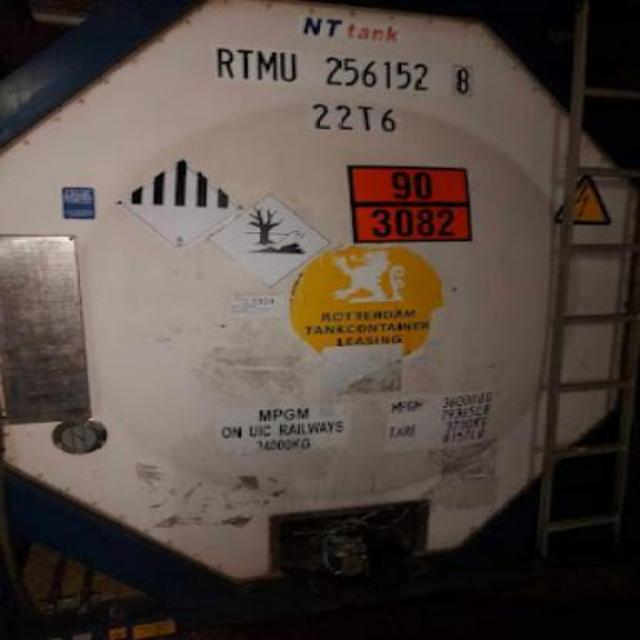1: (382, 51, 396, 94)
2: (322, 50, 342, 90), (412, 54, 430, 94)
5: (340, 49, 360, 89), (396, 52, 412, 94)
6: (358, 49, 379, 90)
8: (452, 60, 476, 96)
M: (256, 46, 278, 86)
R: (208, 42, 236, 82)
T: (237, 44, 253, 84)
U: (278, 49, 302, 87)
